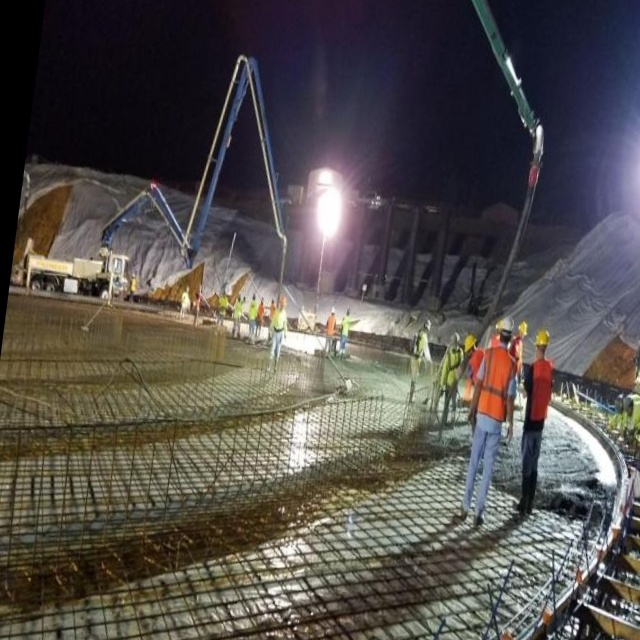Con_Casco: (533, 329, 551, 357), (499, 315, 515, 346)
Con_Chaleco: (475, 348, 517, 429), (523, 358, 557, 428)
